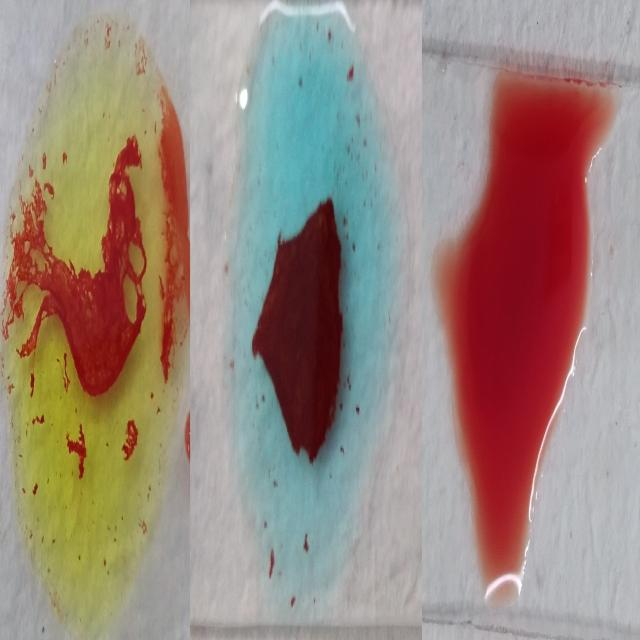A: (228, 6, 404, 622)
B: (4, 10, 187, 632)
